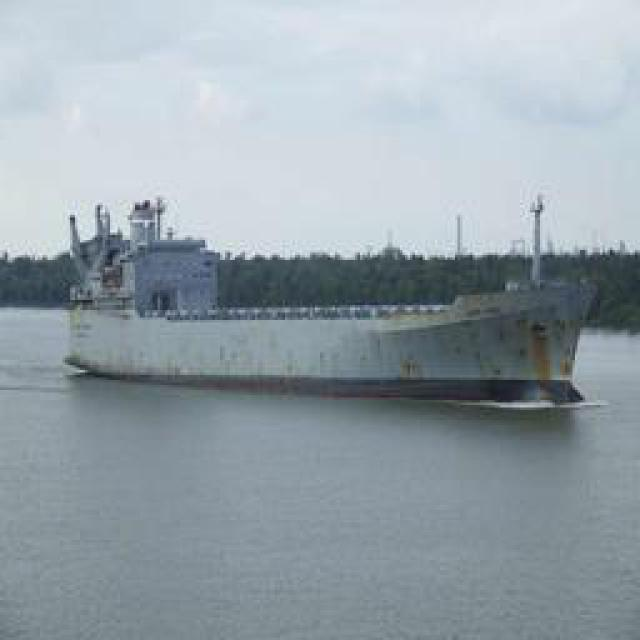Ship: (66, 188, 601, 406)
